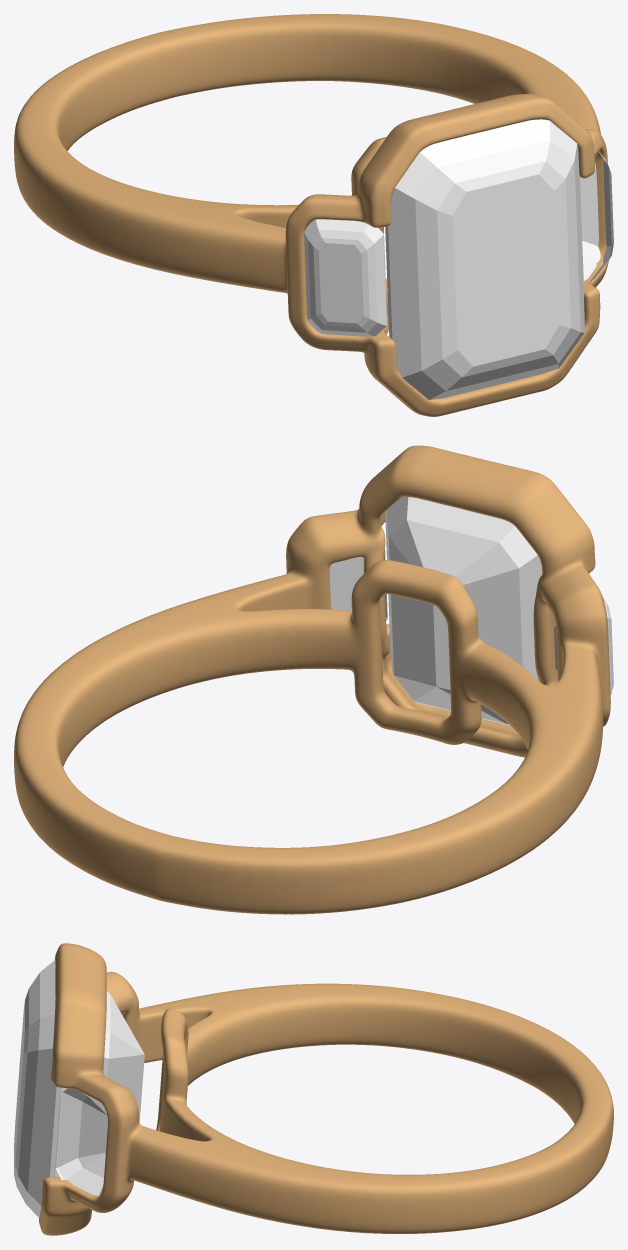
Rendered from refined_mirror_fistion.glb.
The picture shows the model from 3 angles, top to bottom: view 1: azimuth 30°, elevation 25°; view 2: azimuth 150°, elevation 25°; view 3: azimuth 270°, elevation 25°; orthographic projection. The views are drawn at different scales.
Parts seen in each view (by area): view 1: ring, diamond; view 2: ring, diamond; view 3: ring, diamond.
Boxes of the visible parts, box(x1,y1,x2,y2) form: ring: box(14, 14, 608, 416); diamond: box(304, 119, 613, 399); ring: box(14, 445, 610, 914); diamond: box(329, 496, 613, 725); ring: box(39, 943, 613, 1235); diamond: box(14, 960, 144, 1217).
Bounding box in the file's own units: 2.4 × 1.3 × 2.93.
